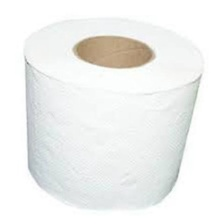tissue: (17, 9, 211, 216)
